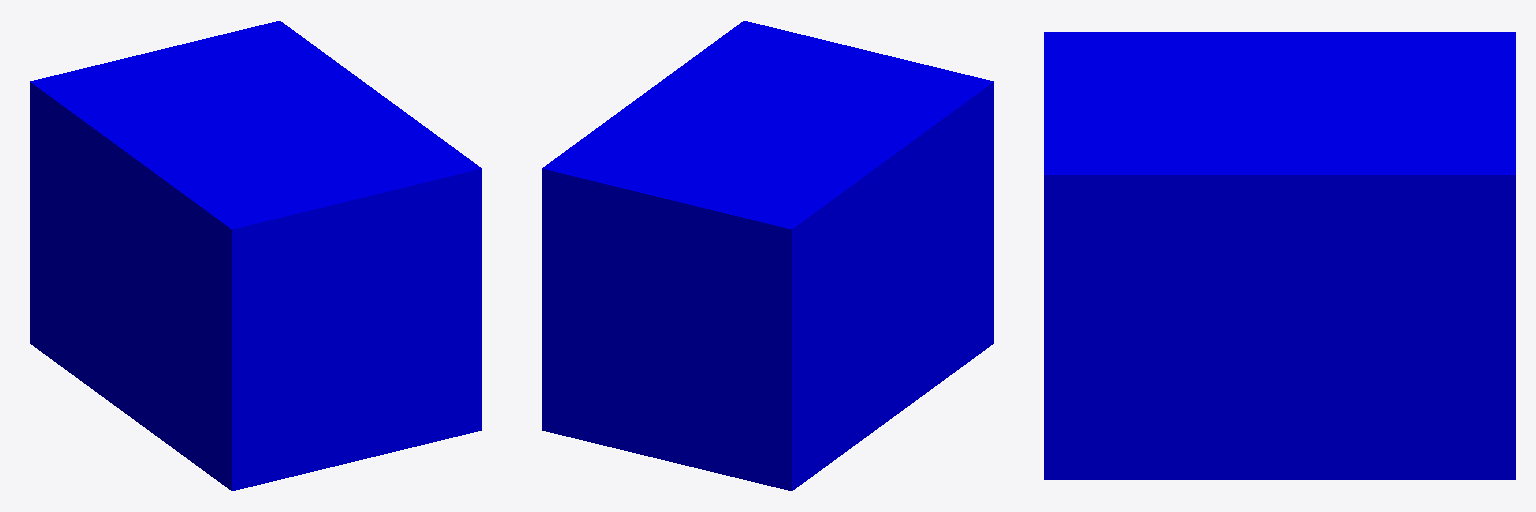
robot.urdf — box:
<?xml version="1.0"?>

<robot name="box">

  <link name="base_link">
  </link>

  <link name="moving_box_link">

    <inertial>
      <origin xyz="0 0 0"/>
      <mass value="1" />
      <inertia ixx="1"  ixy="0"  ixz="0" iyy="1" iyz="0" izz="1" />
    </inertial>

    <visual>
      <origin xyz="0 0 0" />
      <geometry>
        <box size="0.25 0.35 0.25" />
      </geometry>
      <material>
        <color rgba="0 0 1 1" />
      </material>
    </visual>

    <collision>
      <origin xyz="0 0 0" />
      <geometry>
        <box size="0.25 0.35 0.25" />
      </geometry>
    </collision>
  </link>

  <!--
    It seems like Drake doesn't support a standard floating base,
    so we need to emulate the floating base for each body using two
    prismatic joints and one continuous revolute joint, as mentioned
    in Issue #3089 on Drake's GitHub.

    To support these various joints, we need dummy massless bodies to
    serve as intermediates
   -->
  <link name="dummy_1"></link>
  <link name="dummy_2"></link>

  <joint name="x" type="prismatic">
    <parent link="base_link" />
    <child link="dummy_1" />
    <origin xyz="0 0 0" />
    <axis xyz="1 0 0" />
  </joint>
  <joint name="y" type="prismatic">
    <parent link="dummy_1" />
    <child link="dummy_2" />
    <origin xyz="0 0 0" />
    <axis xyz="0 1 0" />
  </joint>
  <joint name="z" type="prismatic">
    <parent link="dummy_2" />
    <child link="moving_box_link" />
    <origin xyz="0 0 0" />
    <axis xyz="0 0 1" />
  </joint>

</robot>

--- Render facts (derived) ---
The picture shows the robot from 3 angles, left to right: view 1: azimuth 30°, elevation 25°; view 2: azimuth 150°, elevation 25°; view 3: azimuth 270°, elevation 25°; orthographic projection.
Model box with 4 links and 3 joints (3 prismatic), rooted at base_link, posed all joints at 0.
Visible links, largest first — view 1: moving_box_link; view 2: moving_box_link; view 3: moving_box_link.
Boxes of the visible links, box(x1,y1,x2,y2) form: moving_box_link: box(30, 21, 481, 490); moving_box_link: box(542, 21, 993, 490); moving_box_link: box(1044, 32, 1515, 479).
Size in the robot's own frame: 0.25 by 0.35 by 0.25 metres.
Geometry: primitives only (box / cylinder / sphere), no mesh files.